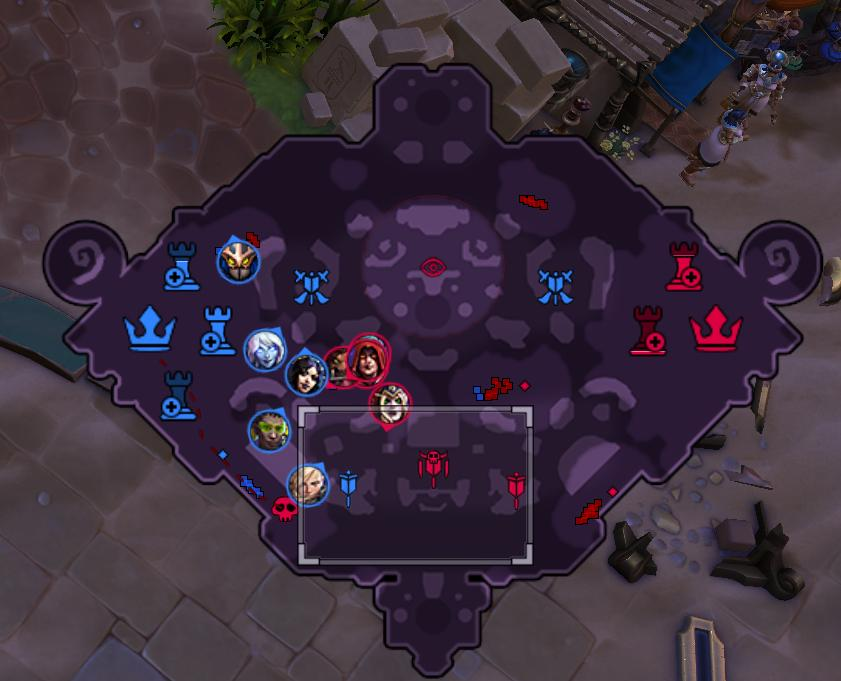blue nexus: (121, 303, 178, 352)
blue player: (216, 237, 260, 283), (285, 350, 328, 396), (287, 462, 330, 507), (244, 327, 286, 372), (249, 408, 290, 452), (323, 345, 353, 388)
blue tower: (158, 369, 198, 421), (162, 238, 201, 291), (199, 304, 236, 356), (817, 254, 840, 305)
red nexus: (689, 303, 743, 352)
red player: (346, 333, 391, 386), (368, 383, 410, 428)
red tower: (628, 301, 669, 356), (666, 239, 704, 294)
